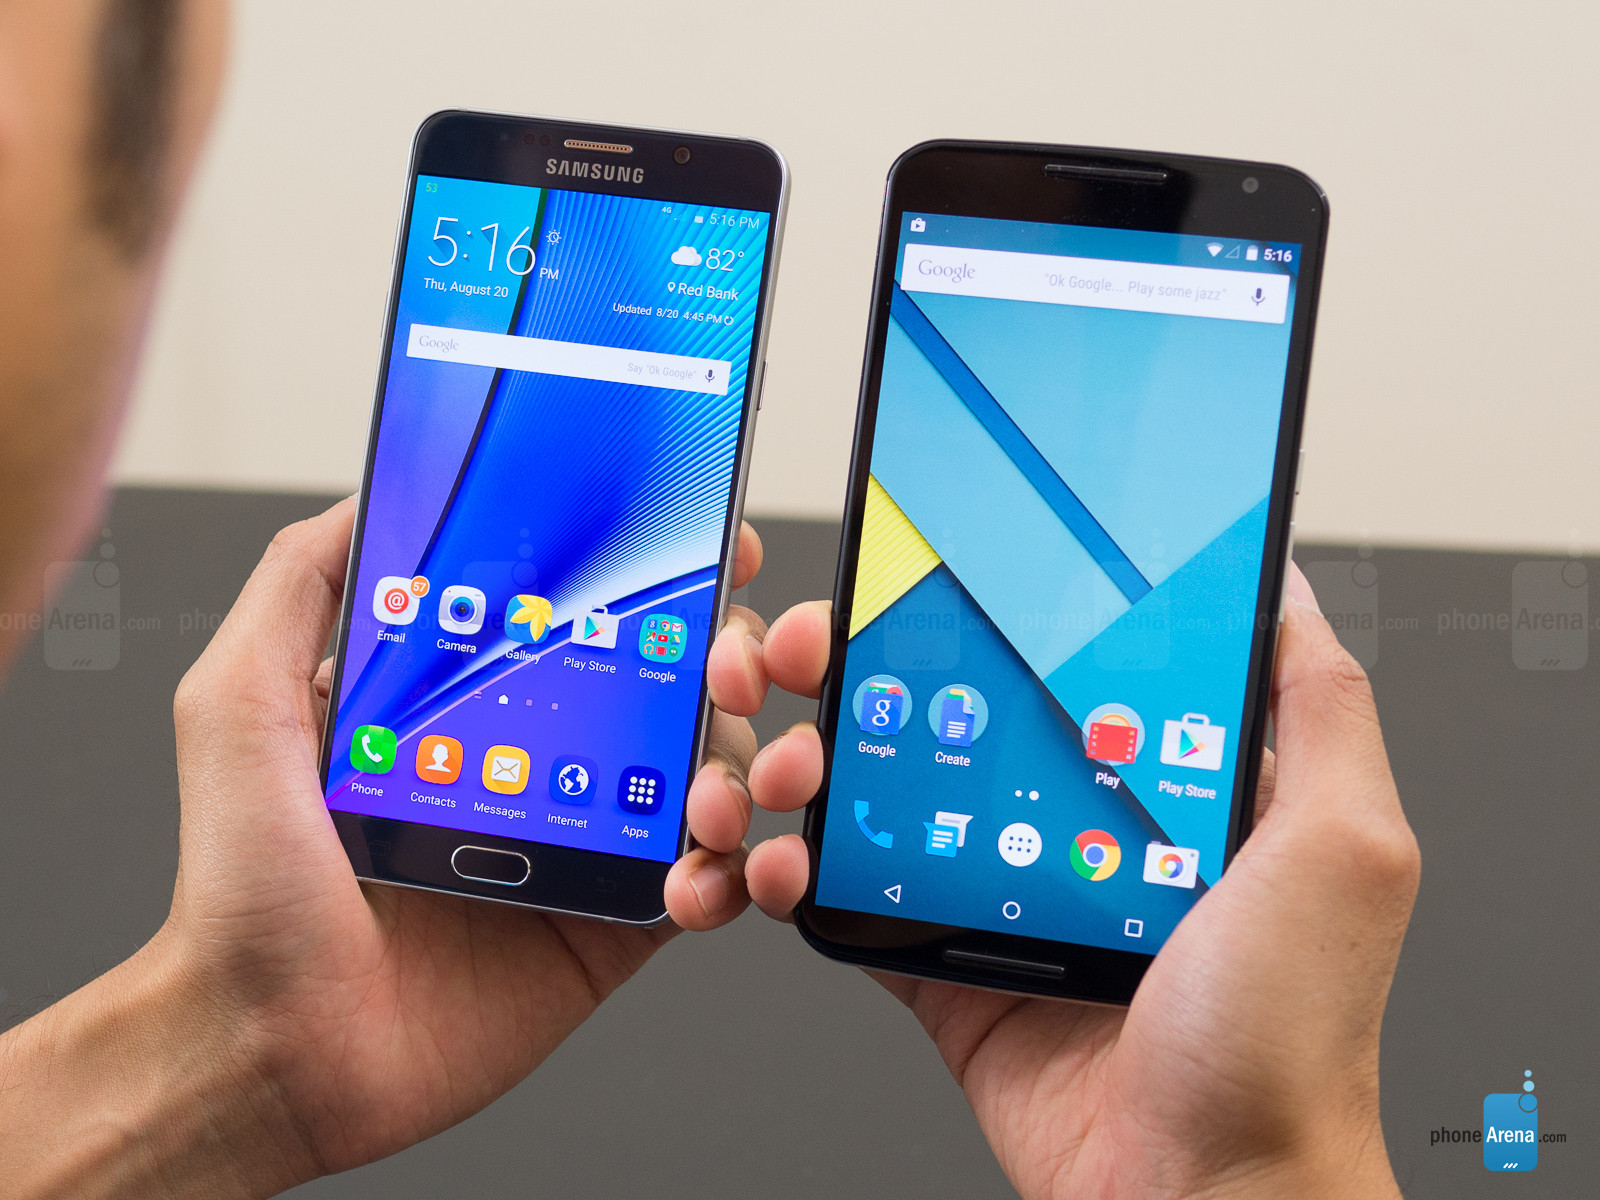smartphone: (790, 137, 1330, 1011), (317, 107, 791, 928)
